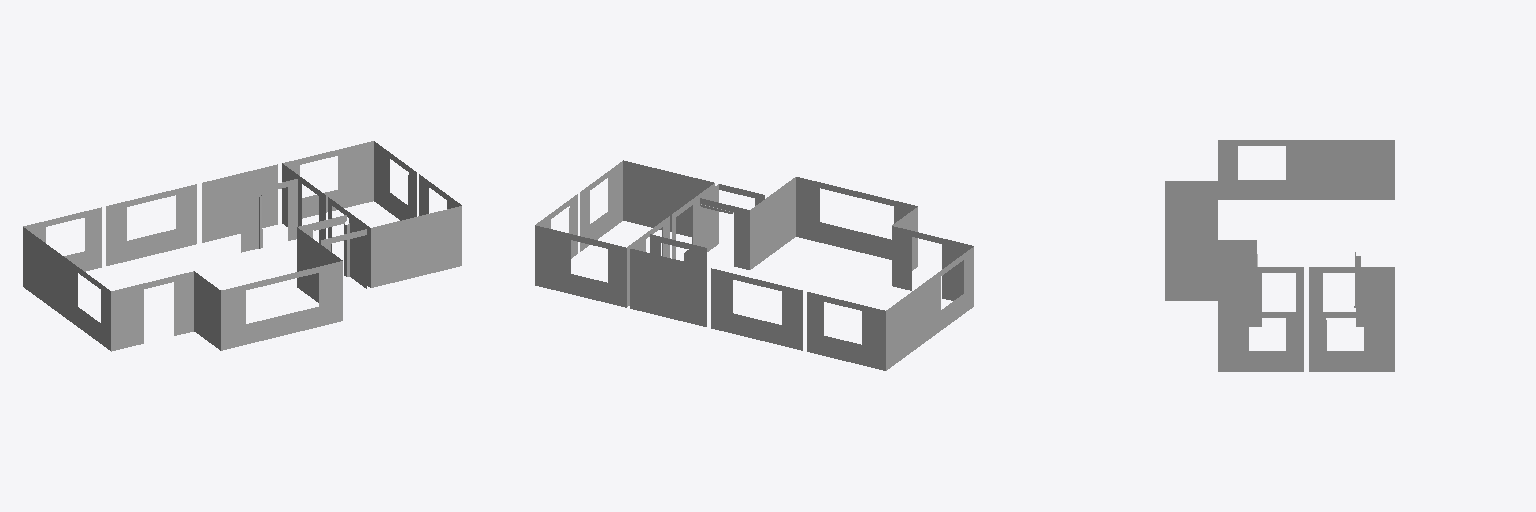
File: old_house_wallP_2.obj
3 renders of one model, left to right at view 1: azimuth 30°, elevation 25°; view 2: azimuth 150°, elevation 25°; view 3: azimuth 270°, elevation 25°, orthographic.
Parts seen in each view (by area): view 1: House_Плоскость; view 2: House_Плоскость; view 3: House_Плоскость.
Part boxes in pixels (bbox=[...]): House_Плоскость: bbox=[23, 141, 461, 351]; House_Плоскость: bbox=[535, 160, 973, 370]; House_Плоскость: bbox=[1165, 140, 1394, 371].
Size of the model in its own units: 18.29 by 3 by 10.39.